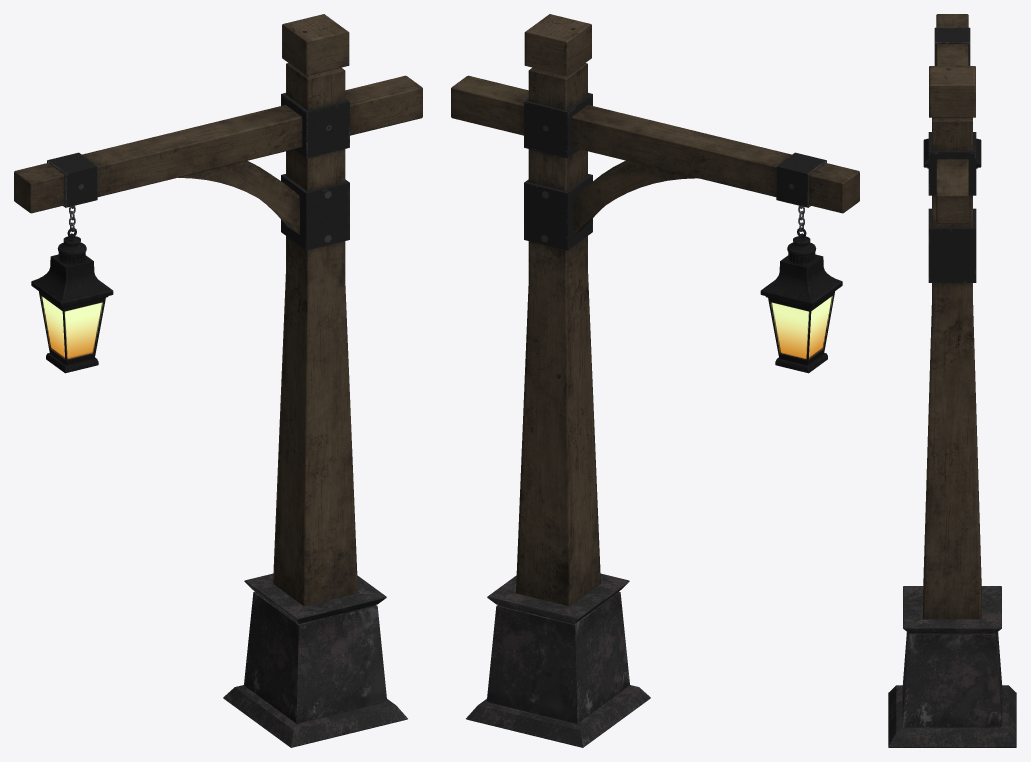
3 views of the same model, side by side, from view 1: azimuth 30°, elevation 25°; view 2: azimuth 150°, elevation 25°; view 3: azimuth 270°, elevation 25° (orthographic). The views are drawn at different scales.
Parts seen in each view (by area): view 1: LanternPole_Body, LanternPole_Lantern; view 2: LanternPole_Body, LanternPole_Lantern; view 3: LanternPole_Body, LanternPole_Lantern.
Part boxes in pixels (left/top/right/bottom): LanternPole_Body: left=14, top=14, right=422, bottom=747; LanternPole_Lantern: left=31, top=227, right=113, bottom=373; LanternPole_Body: left=451, top=14, right=859, bottom=747; LanternPole_Lantern: left=760, top=227, right=842, bottom=373; LanternPole_Body: left=888, top=14, right=1016, bottom=747; LanternPole_Lantern: left=923, top=138, right=981, bottom=168.
Bounding box in the file's own units: 15.49 × 25.66 × 4.63.
1 material, 1 textured.
